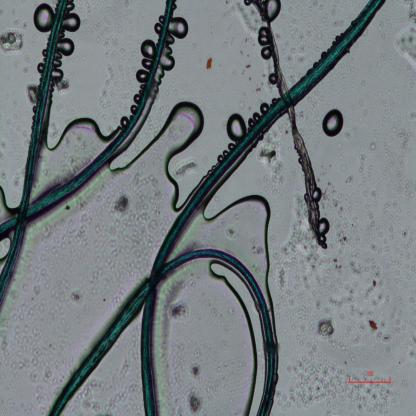Air bubble: (192, 187, 272, 280), (145, 98, 206, 181), (46, 111, 102, 155), (323, 108, 344, 139), (33, 3, 53, 34), (226, 111, 246, 141), (160, 36, 176, 69), (169, 17, 191, 38), (56, 36, 76, 57), (51, 56, 66, 81), (62, 14, 81, 32), (266, 0, 281, 21), (140, 39, 156, 58), (257, 25, 270, 45), (133, 68, 148, 83), (317, 219, 329, 236), (312, 187, 322, 204), (140, 57, 154, 68), (261, 46, 272, 60), (268, 72, 278, 86), (154, 21, 163, 34), (260, 103, 269, 115), (252, 112, 260, 121)
Background material: (97, 174, 166, 286), (282, 347, 393, 412), (267, 186, 325, 300), (336, 262, 408, 335), (4, 309, 61, 396), (326, 198, 368, 258), (385, 120, 416, 192), (94, 44, 122, 110), (390, 3, 416, 74), (349, 141, 381, 188), (224, 0, 262, 36), (287, 19, 314, 64), (0, 25, 25, 53), (179, 359, 206, 384), (256, 143, 281, 170), (315, 316, 338, 341), (62, 282, 87, 303), (111, 192, 131, 216), (177, 159, 199, 178), (168, 300, 188, 320), (186, 393, 204, 414), (22, 86, 40, 104), (204, 54, 214, 75), (368, 318, 378, 332), (0, 140, 9, 155), (242, 61, 252, 72)
Cotton: (257, 3, 330, 251)
Microfibre: (47, 2, 388, 414), (0, 1, 180, 242), (0, 1, 71, 321)
